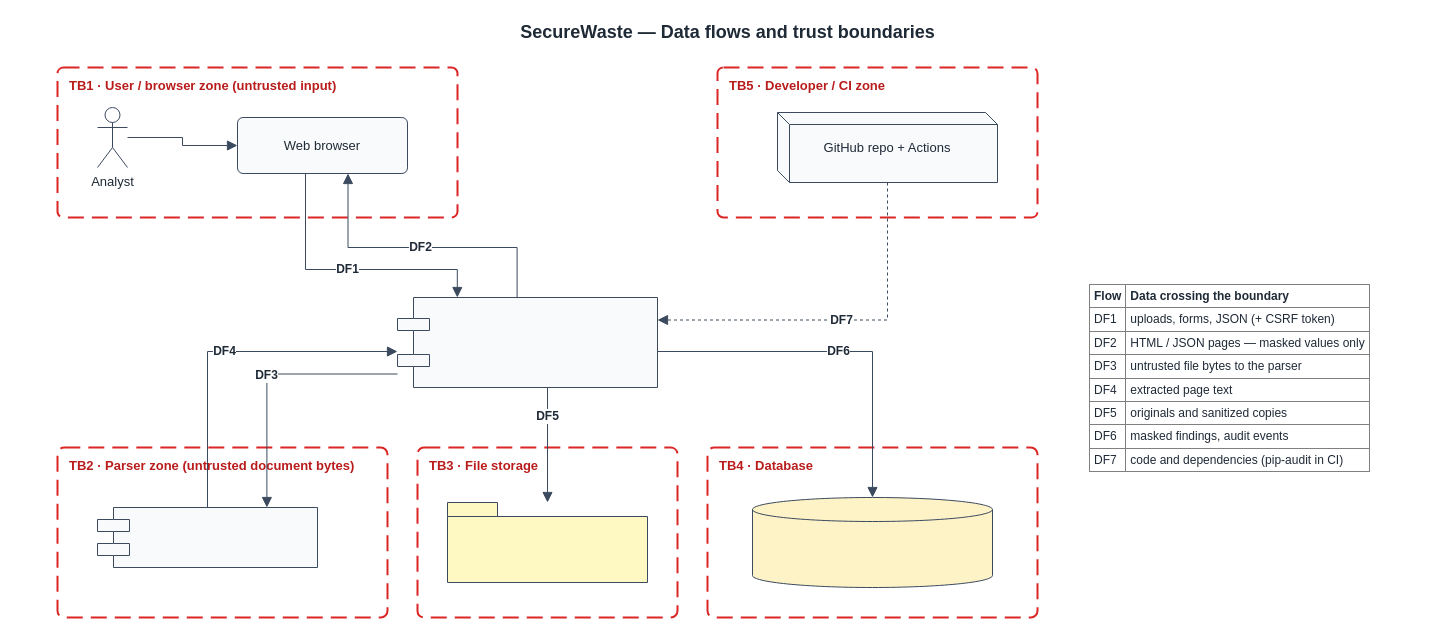
Some shapes in this 1454 by 635 pixel diagram are drawn without their labels. Here are the shapes that lost their labels. From the top down, the centre of each, then its label:
(527,342): Flask application trusted code, localhost only
(207,537): PyMuPDF / MuPDF (native code)
(547,542): originals / sanitized / tmp
(872,542): SQLite (masked values, HMACs, audit)
